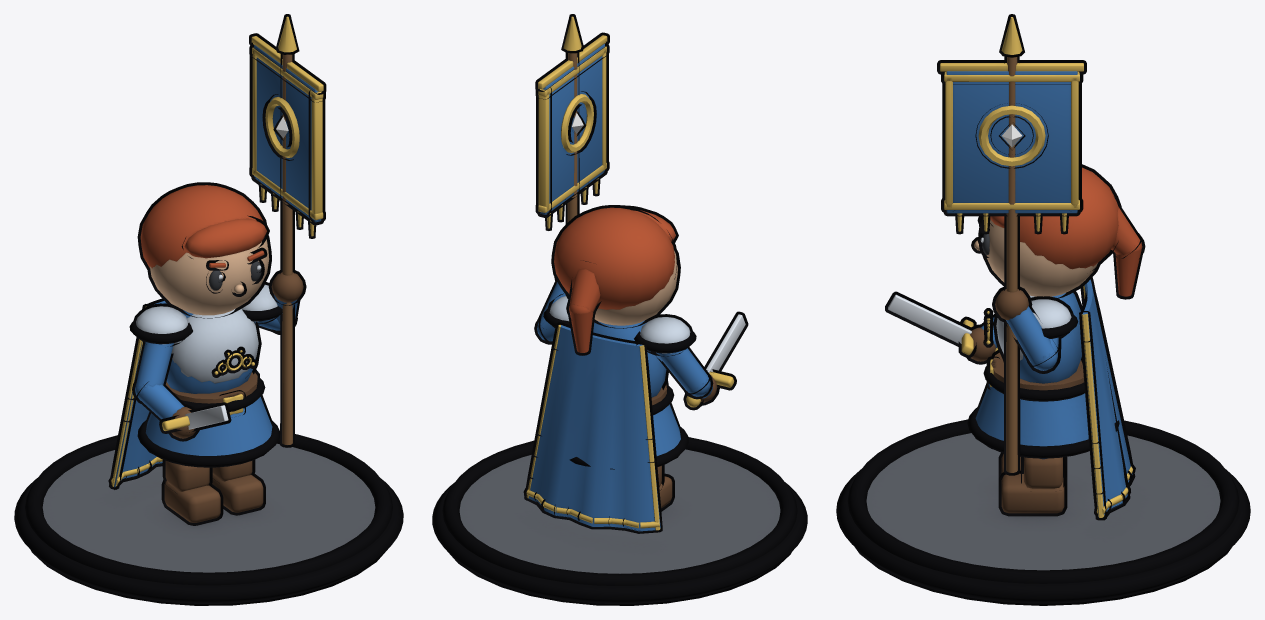
Rendered from banner_bearer_s3.fbx.
3 renders of one model, left to right at view 1: azimuth 30°, elevation 25°; view 2: azimuth 150°, elevation 25°; view 3: azimuth 270°, elevation 25°, orthographic. The views are drawn at different scales.
Parts seen in each view (by area): view 1: banner_bearer_s3; view 2: banner_bearer_s3; view 3: banner_bearer_s3.
Boxes of the visible parts, x1,y1,x2,y2 form: banner_bearer_s3: [14, 14, 403, 605]; banner_bearer_s3: [432, 14, 807, 605]; banner_bearer_s3: [836, 14, 1250, 605].
Size of the model in its own units: 1.58 by 2.28 by 1.58.
Materials: 2 (1 with a texture image).
